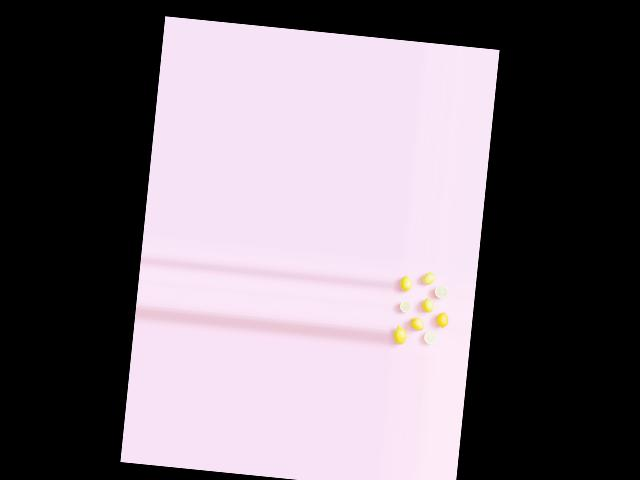lemon: (396, 274, 411, 295)
